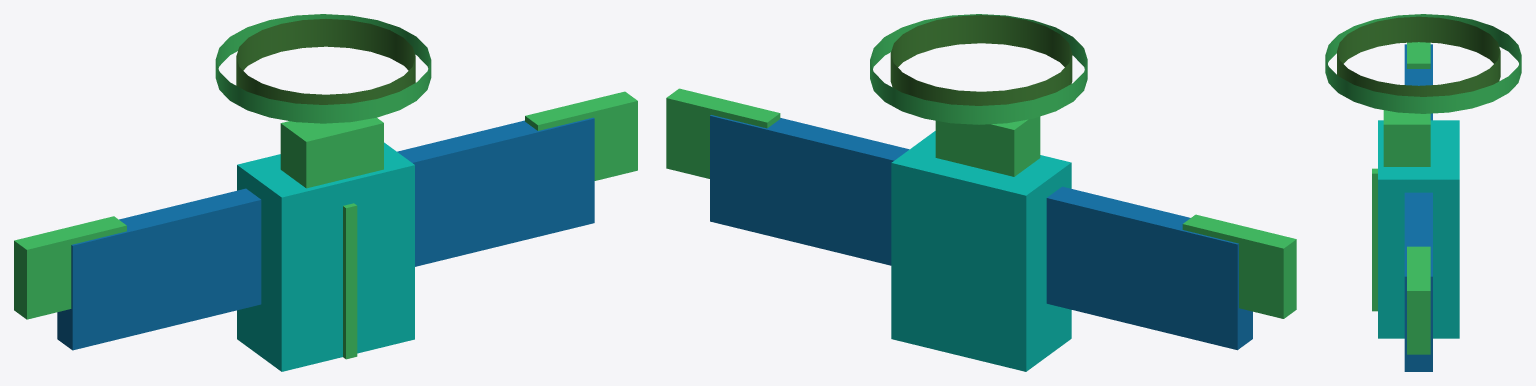
The model's file is sacred_scarab.glb.
3 renders of one model, left to right at view 1: azimuth 30°, elevation 25°; view 2: azimuth 150°, elevation 25°; view 3: azimuth 270°, elevation 25°, orthographic. The views are drawn at different scales.
Bounding box in the file's own units: 2.75 × 1.21 × 0.84.
